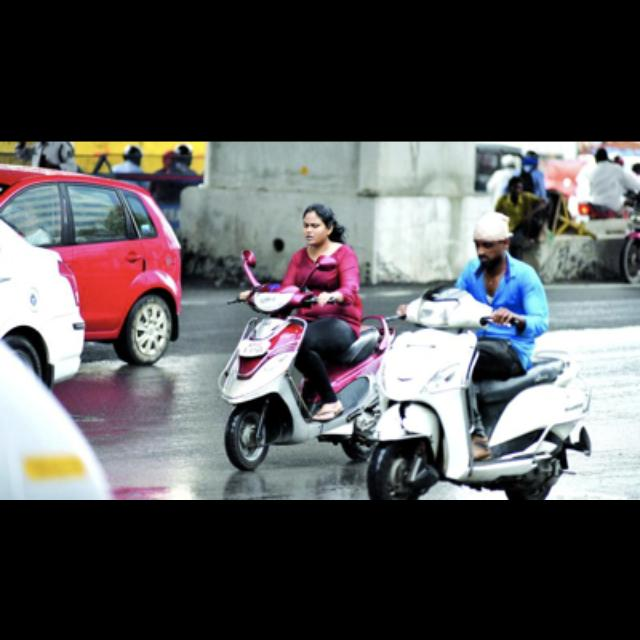Without Helmet: (467, 206, 517, 266), (293, 196, 343, 248)
